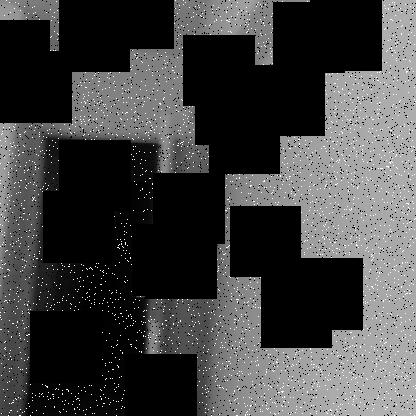Porte: (9, 109, 197, 415)
